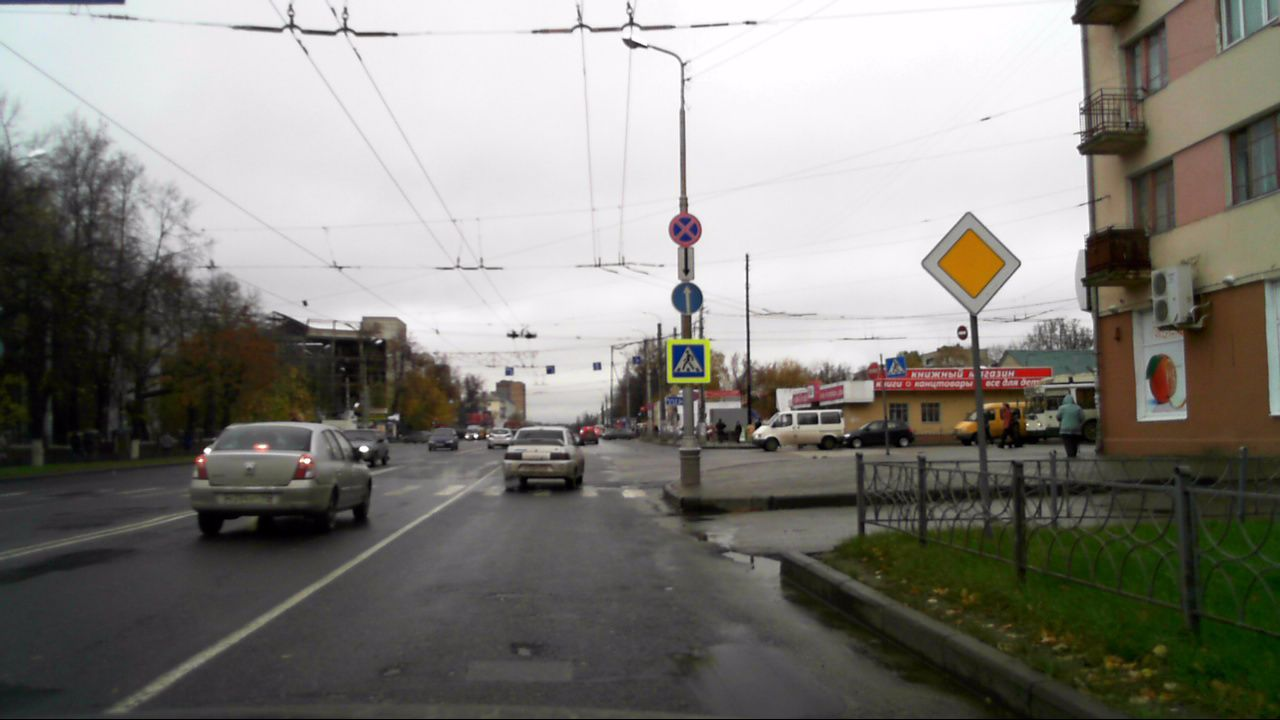No Parking: (668, 213, 702, 246)
